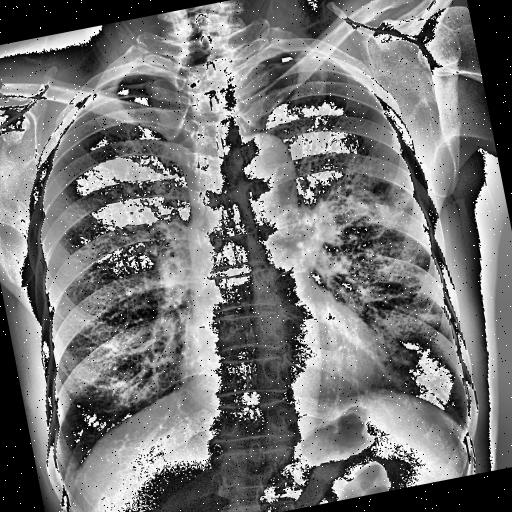5- ILD: (316, 150, 448, 399), (310, 163, 450, 363), (322, 173, 452, 365), (66, 258, 192, 415)
8- Nodule-Mass: (391, 188, 414, 210)
